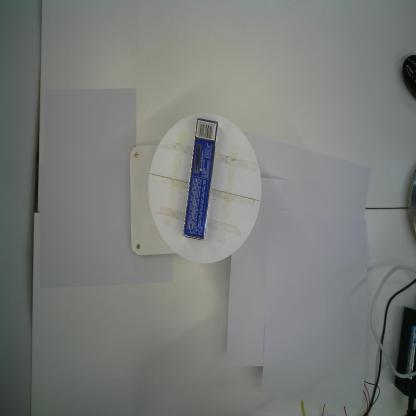Personal Hygiene: (182, 117, 218, 241)
